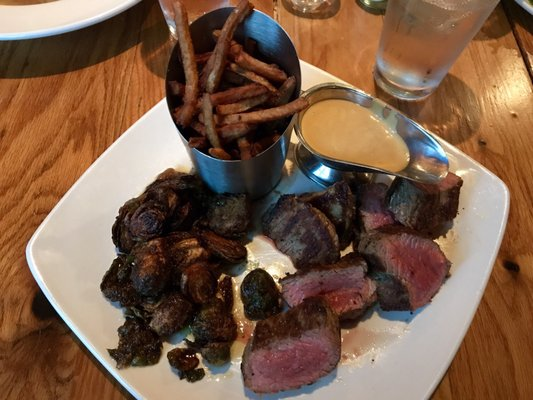pizza: (372, 0, 500, 102), (277, 0, 342, 20)
sushi: (163, 1, 314, 197), (289, 84, 453, 193)
